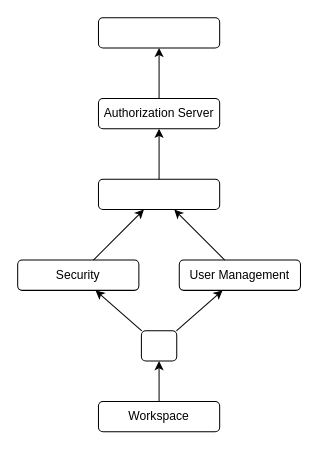
This 318x449 diagram has some shape labels left out. The shapes that lost their labels are listed below. From the top down, each one's centre as x and y in pixels, then its label:
(x=158, y=32): Eureka Server
(x=158, y=194): Usage
